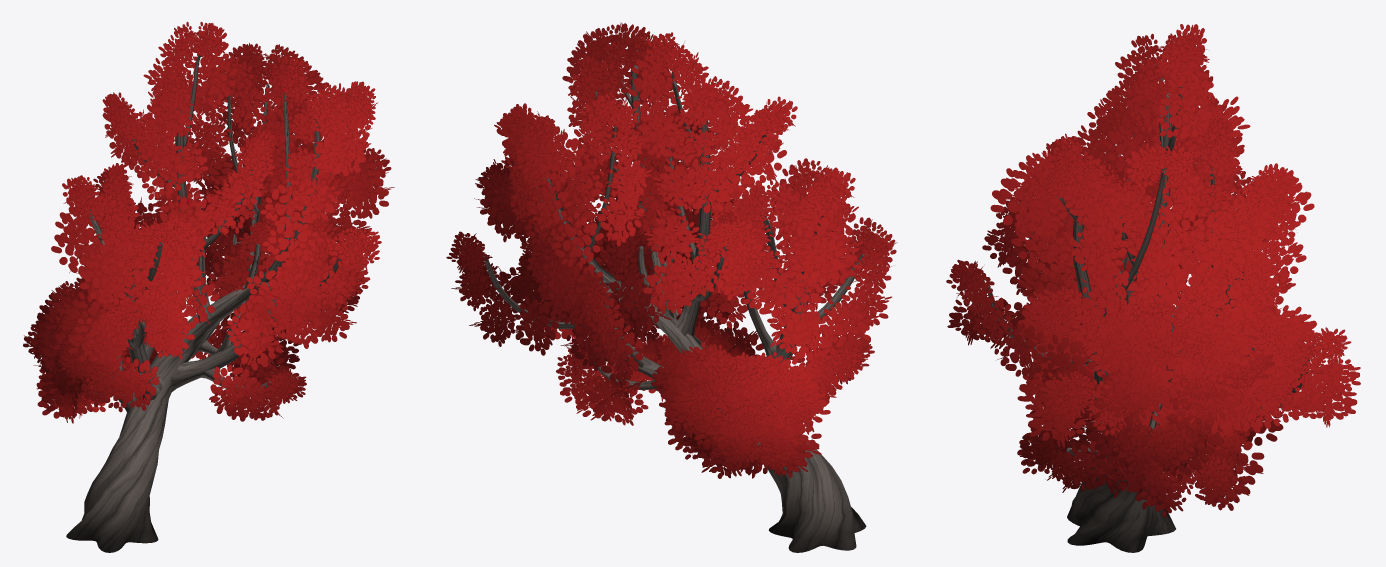
The model's file is quaternius-TwistedTree_1.glb.
3 views of the same model, side by side, from view 1: azimuth 30°, elevation 25°; view 2: azimuth 150°, elevation 25°; view 3: azimuth 270°, elevation 25° (orthographic). The views are drawn at different scales.
Visible parts, largest first — view 1: TwistedTree_1; view 2: TwistedTree_1; view 3: TwistedTree_1.
Boxes of the visible parts, <box> form: TwistedTree_1: <box>23,21,394,552</box>; TwistedTree_1: <box>446,22,897,552</box>; TwistedTree_1: <box>946,24,1360,552</box>.
Size of the model in its own units: 13.52 by 16.73 by 11.55.
Materials: 2 (2 with a texture image).
